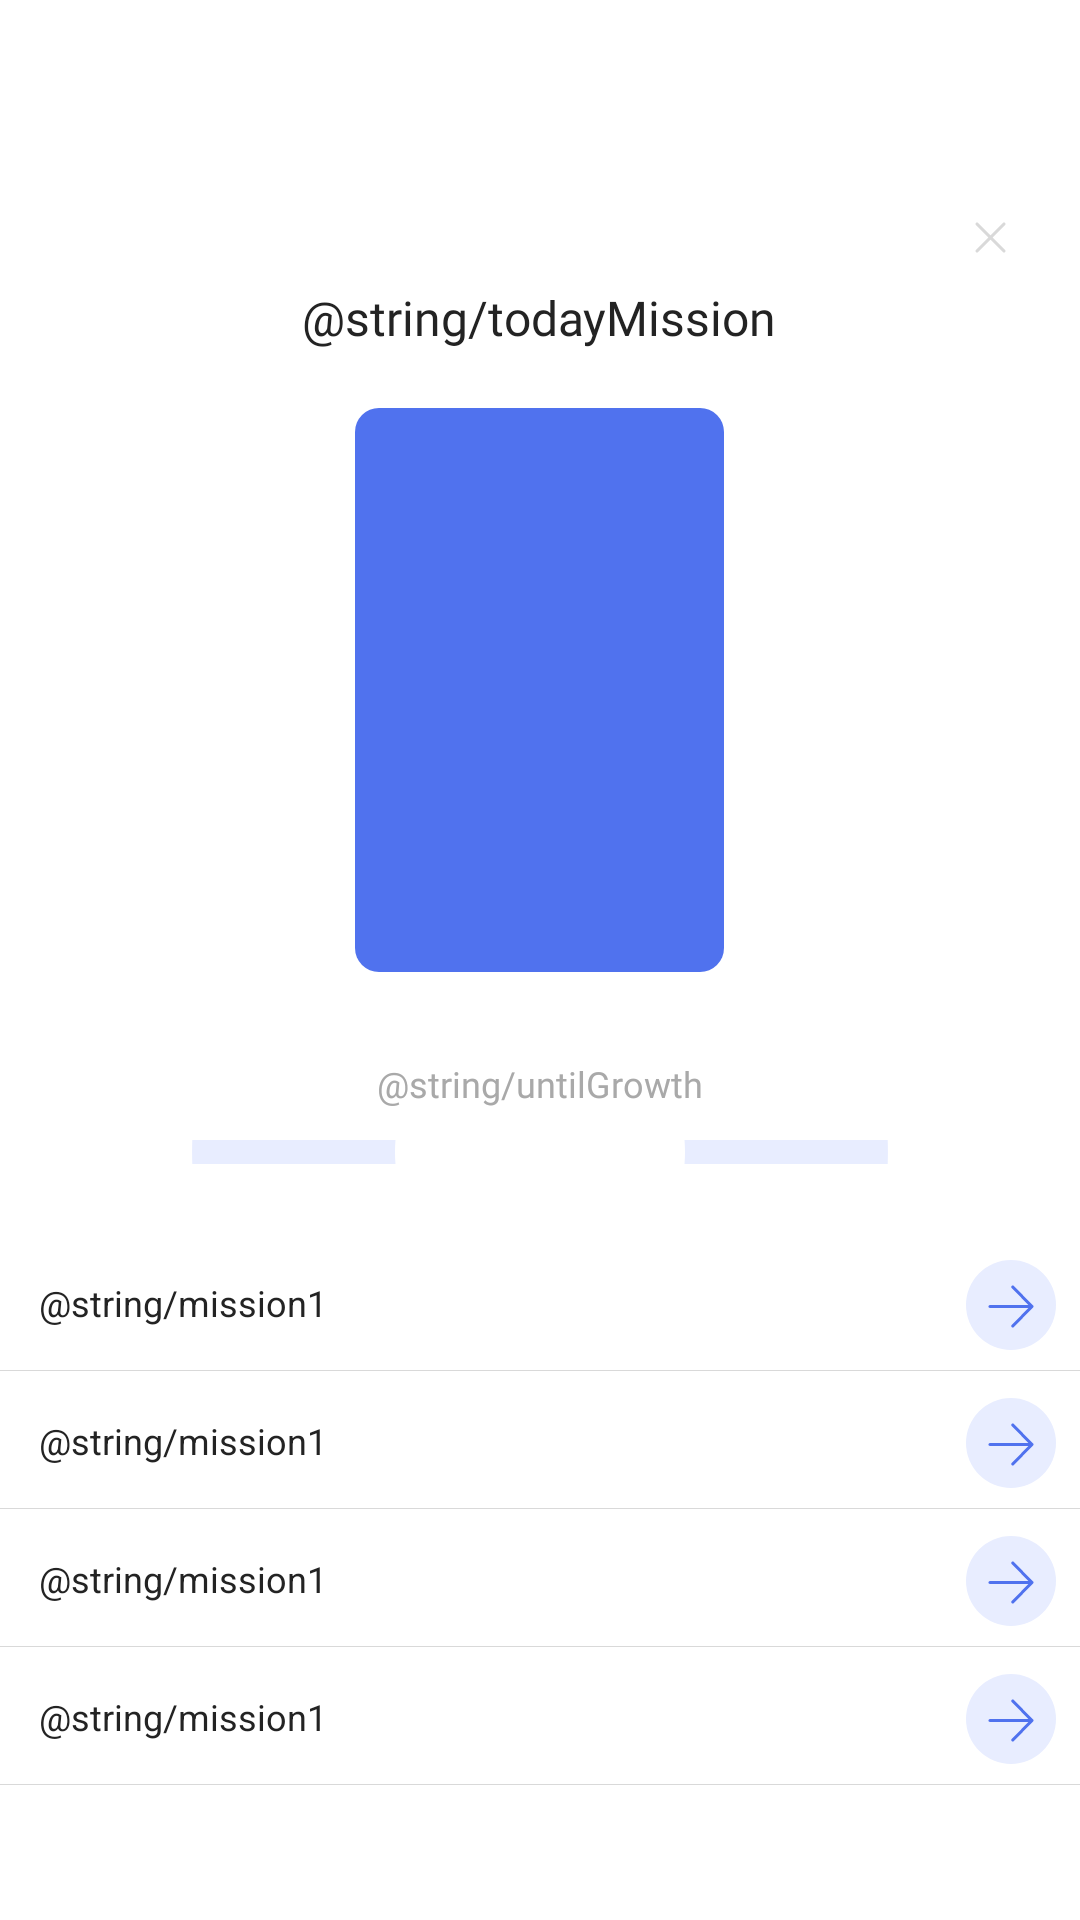

Named icons in this screenshot (1080px×1920px) and their centers, (x,y):
close popup: (990,237)
mission move: (1011,1305), (1011,1443), (1011,1581), (1011,1719)
